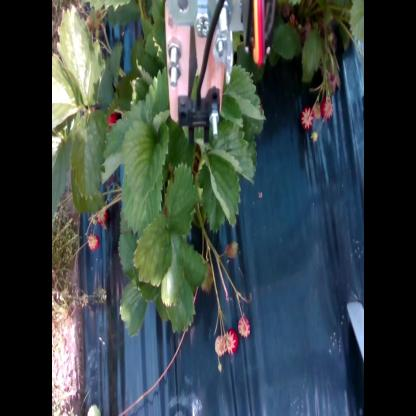ripe: (225, 327, 240, 356), (95, 204, 110, 228), (300, 106, 315, 130), (104, 104, 119, 125), (86, 231, 101, 251), (321, 100, 333, 121)
unripe: (238, 315, 251, 338), (214, 337, 226, 356)
